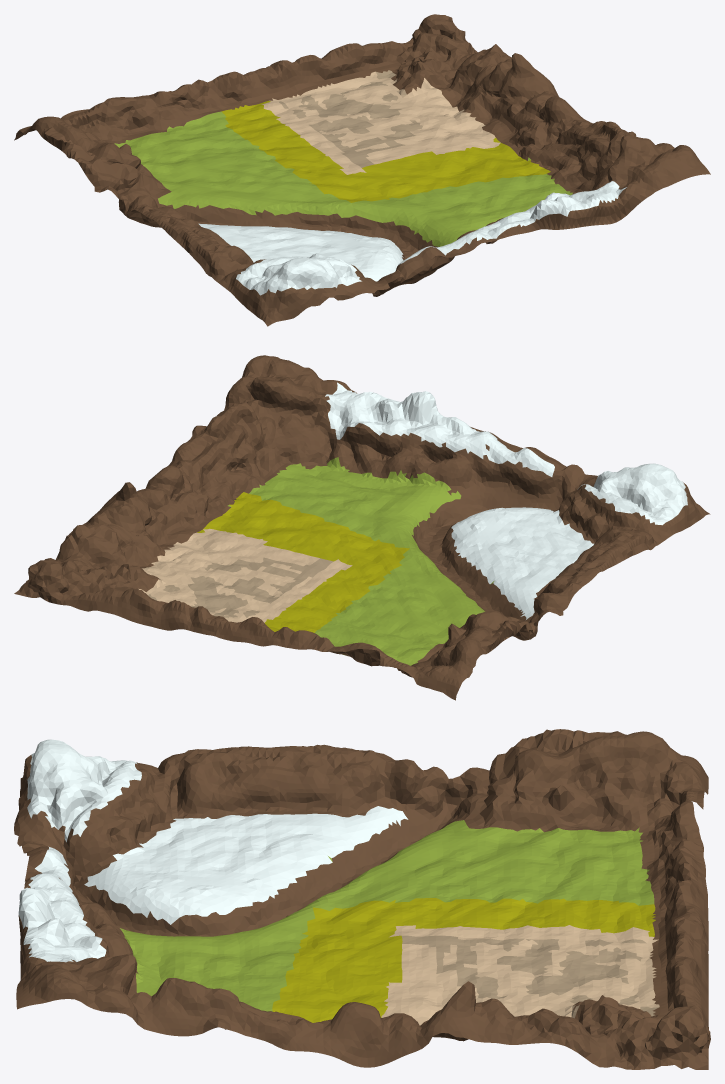
File: Terrain_Empty.fbx
The picture shows the model from 3 angles, top to bottom: view 1: azimuth 30°, elevation 25°; view 2: azimuth 150°, elevation 25°; view 3: azimuth 270°, elevation 25°; orthographic projection. The views are drawn at different scales.
Visible parts, largest first — view 1: Terrain; view 2: Terrain; view 3: Terrain.
Part boxes in pixels (x1=…): Terrain: x1=14, y1=14, x2=710, y2=326; Terrain: x1=14, y1=355, x2=710, y2=700; Terrain: x1=14, y1=729, x2=710, y2=1069.
Bounding box in the file's own units: 2218 × 425 × 2209.
